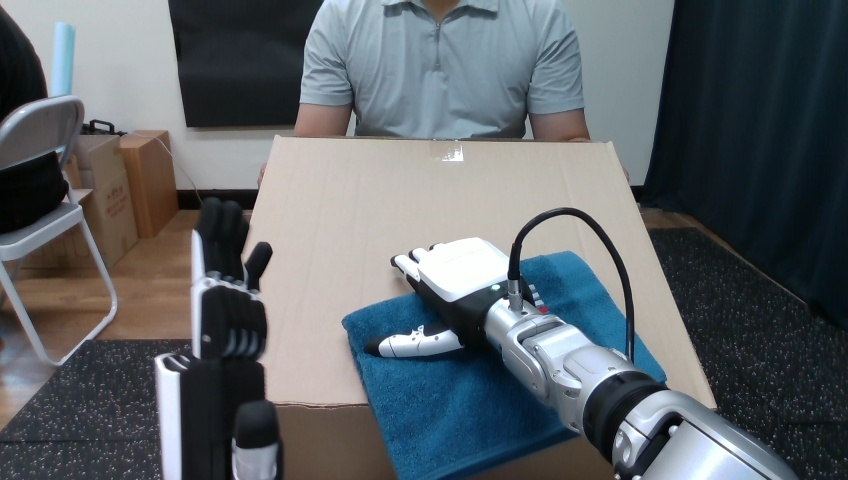left robot hand: (345, 294, 573, 478), (155, 198, 271, 478), (523, 253, 623, 349)
